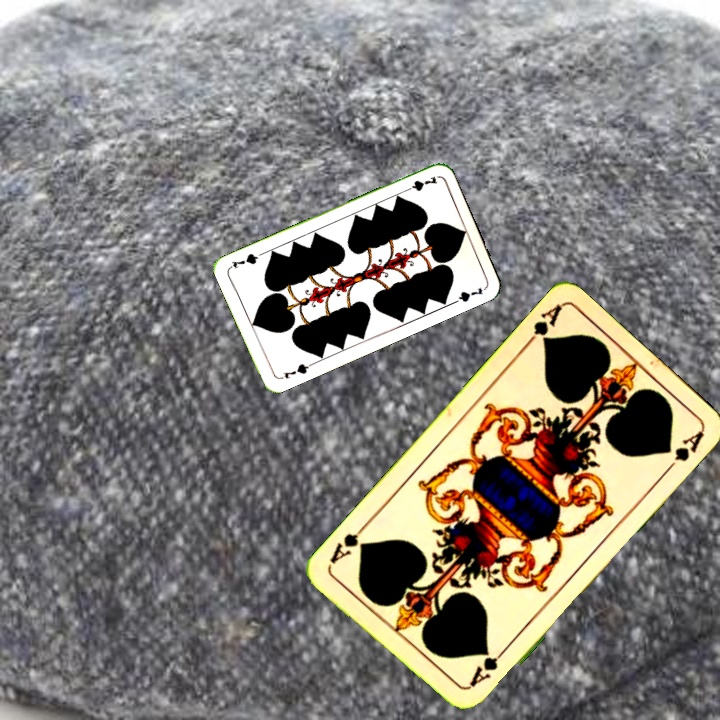G7: (399, 172, 439, 195), (280, 359, 315, 381)
GA: (519, 301, 564, 351), (464, 644, 509, 691)
